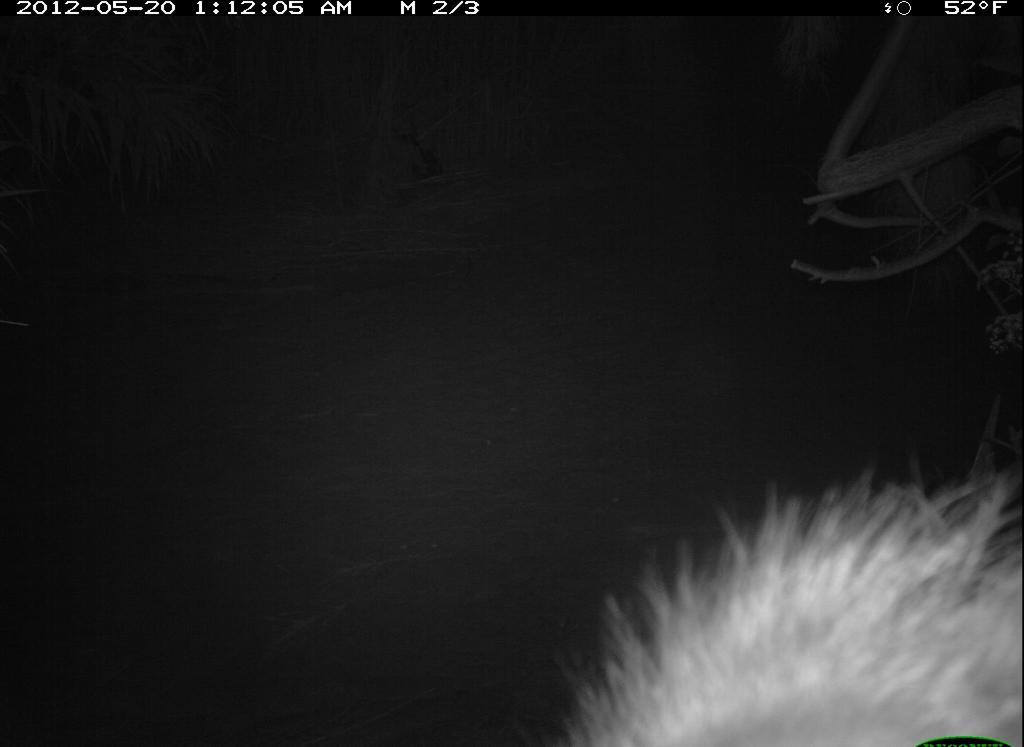raccoon: (529, 410, 1023, 747)
